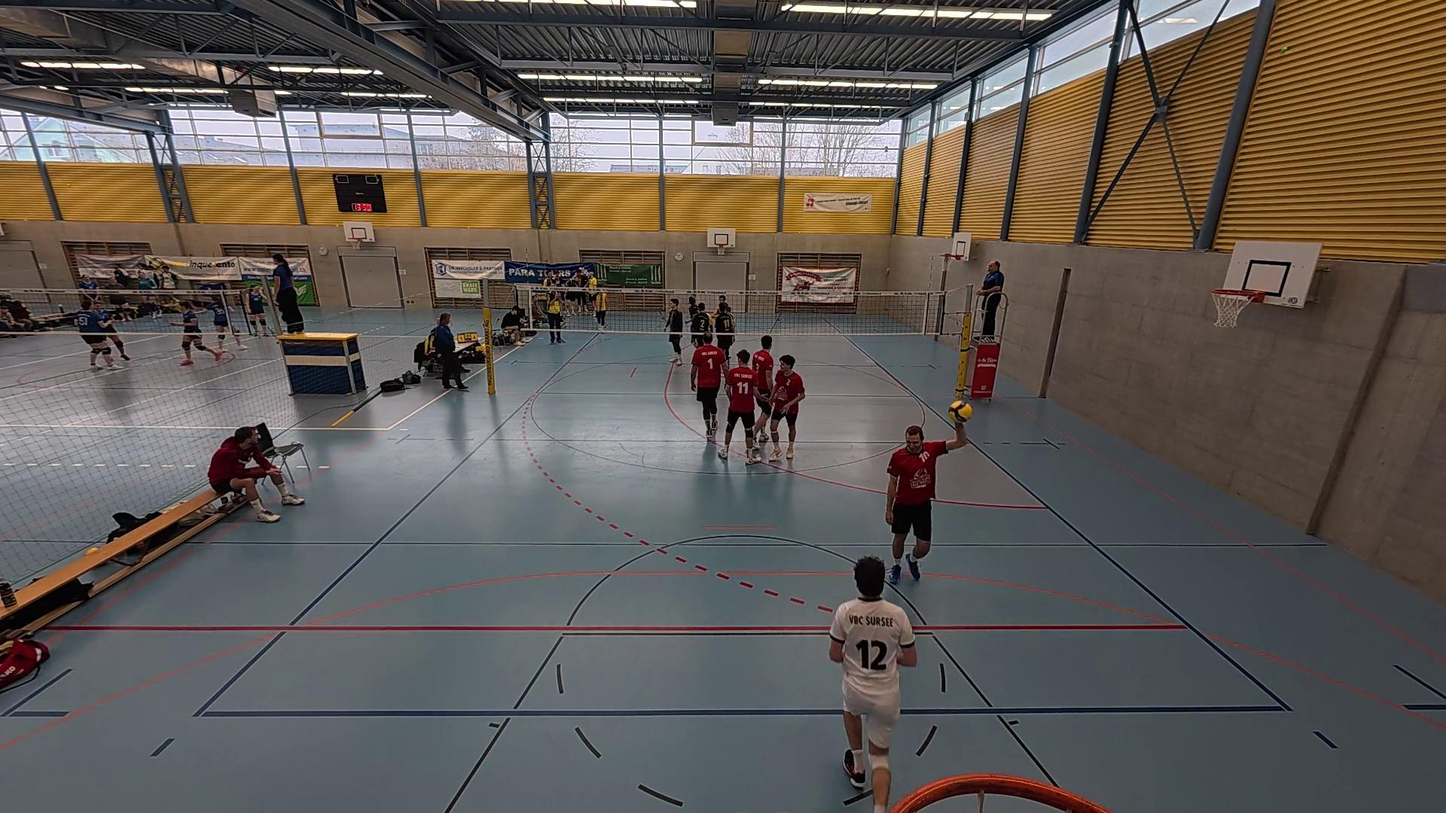Player: (829, 556, 918, 808), (883, 395, 973, 585), (742, 349, 780, 465), (688, 329, 727, 440), (721, 349, 758, 461), (771, 356, 804, 461), (752, 336, 777, 443), (664, 297, 688, 370), (715, 296, 737, 357), (689, 297, 713, 351)
ball: (950, 401, 970, 419)
